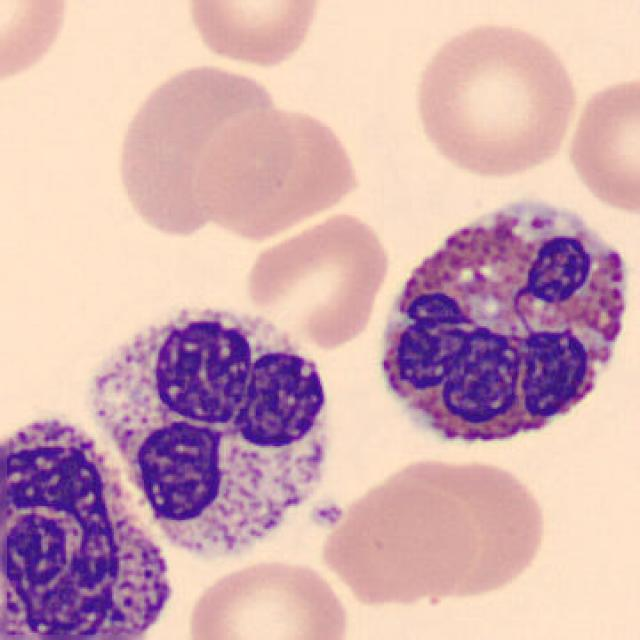Basophil: (0, 400, 187, 638)
Eosinophil: (362, 185, 640, 463)
Neutrophil: (76, 293, 346, 580)
Platelets: (309, 497, 347, 531)
RBC: (108, 56, 286, 242), (407, 16, 581, 180), (381, 453, 551, 601), (194, 102, 364, 242), (242, 208, 393, 353), (318, 474, 478, 608), (181, 555, 354, 640), (563, 70, 640, 216), (181, 0, 327, 69), (0, 0, 75, 95)
